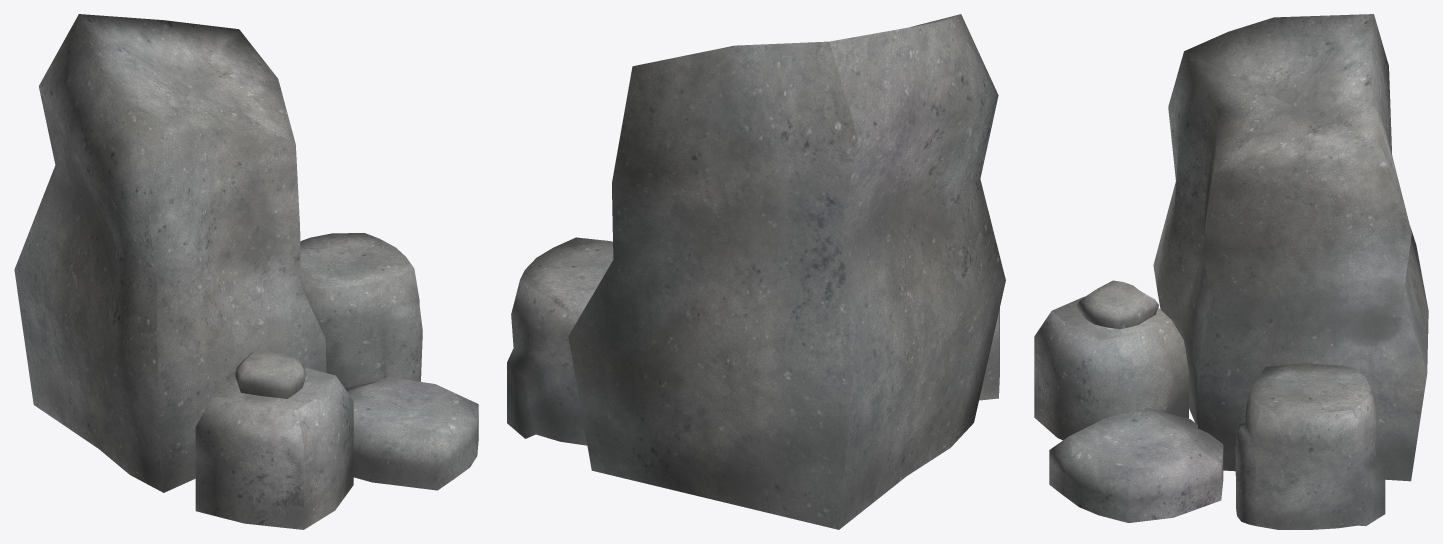
Rendered from iwa2.fbx.
The picture shows the model from 3 angles, left to right: view 1: azimuth 30°, elevation 25°; view 2: azimuth 150°, elevation 25°; view 3: azimuth 270°, elevation 25°; orthographic projection. The views are drawn at different scales.
Parts seen in each view (by area): view 1: iwa; view 2: iwa; view 3: iwa.
Part boxes in pixels (x1,y1,x2,y2): iwa: (14,14,478,529); iwa: (507,14,1005,529); iwa: (1034,14,1428,529).
Size of the model in its own units: 85.96 by 97.52 by 91.2.
